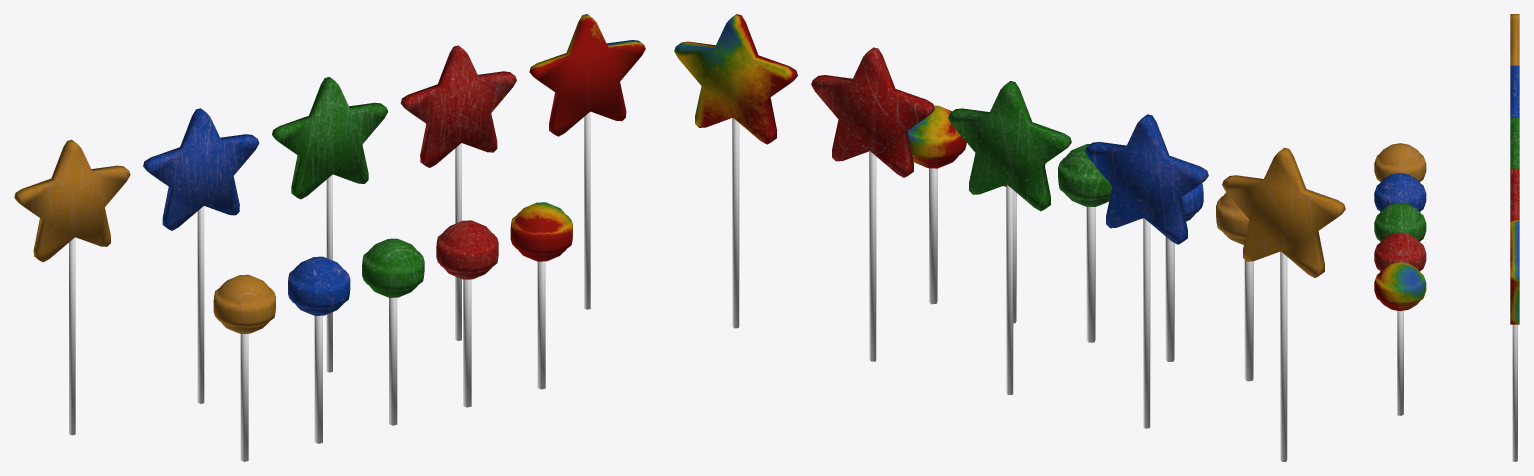
File: lollipops-pack.glb
3 renders of one model, left to right at view 1: azimuth 30°, elevation 25°; view 2: azimuth 150°, elevation 25°; view 3: azimuth 270°, elevation 25°, orthographic. The views are drawn at different scales.
Parts seen in each view (by area): view 1: Rainbow StarLollipop.004; view 2: Rainbow StarLollipop.004; view 3: Rainbow StarLollipop.004.
Part boxes in pixels (x1=…): Rainbow StarLollipop.004: x1=14, y1=14, x2=645, y2=461; Rainbow StarLollipop.004: x1=674, y1=14, x2=1345, y2=461; Rainbow StarLollipop.004: x1=1374, y1=14, x2=1519, y2=461.
Size of the model in its own units: 3.38 by 1.5 by 0.8271.
Materials: 2 (2 with a texture image).
